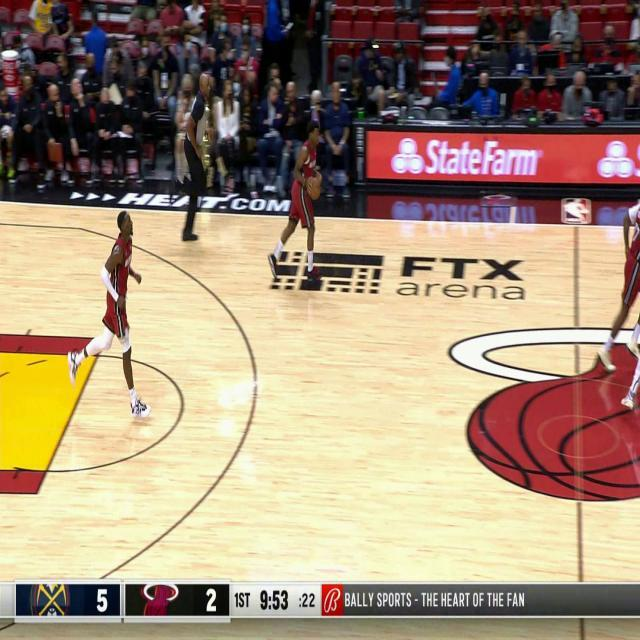rim: (308, 177, 320, 201)
